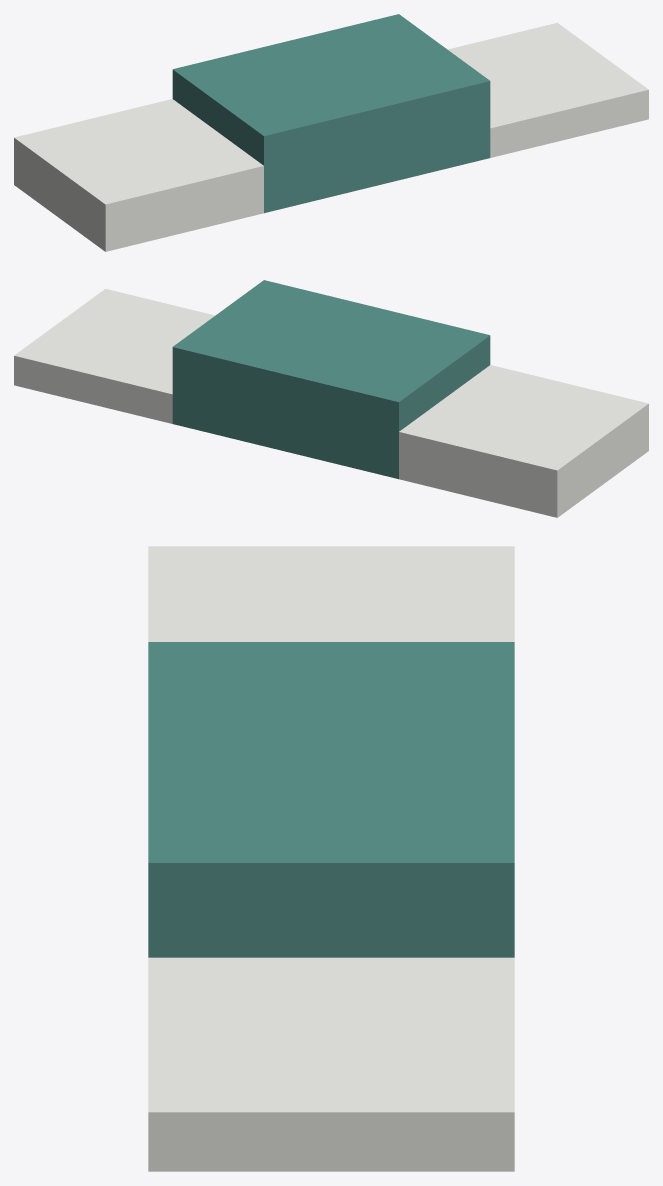
File: grand-prix-circuit-and-open-wheel-podium-a766be0c__15240.glb
3 renders of one model, top to bottom at view 1: azimuth 30°, elevation 25°; view 2: azimuth 150°, elevation 25°; view 3: azimuth 270°, elevation 25°, orthographic. The views are drawn at different scales.
Visible parts, largest first — view 1: podium; view 2: podium; view 3: podium.
Boxes of the visible parts, x1=… form: podium: x1=14, y1=14, x2=648, y2=251; podium: x1=14, y1=280, x2=648, y2=517; podium: x1=148, y1=546, x2=514, y2=1171.
Bounding box in the file's own units: 4.8 × 0.6501 × 1.4.
